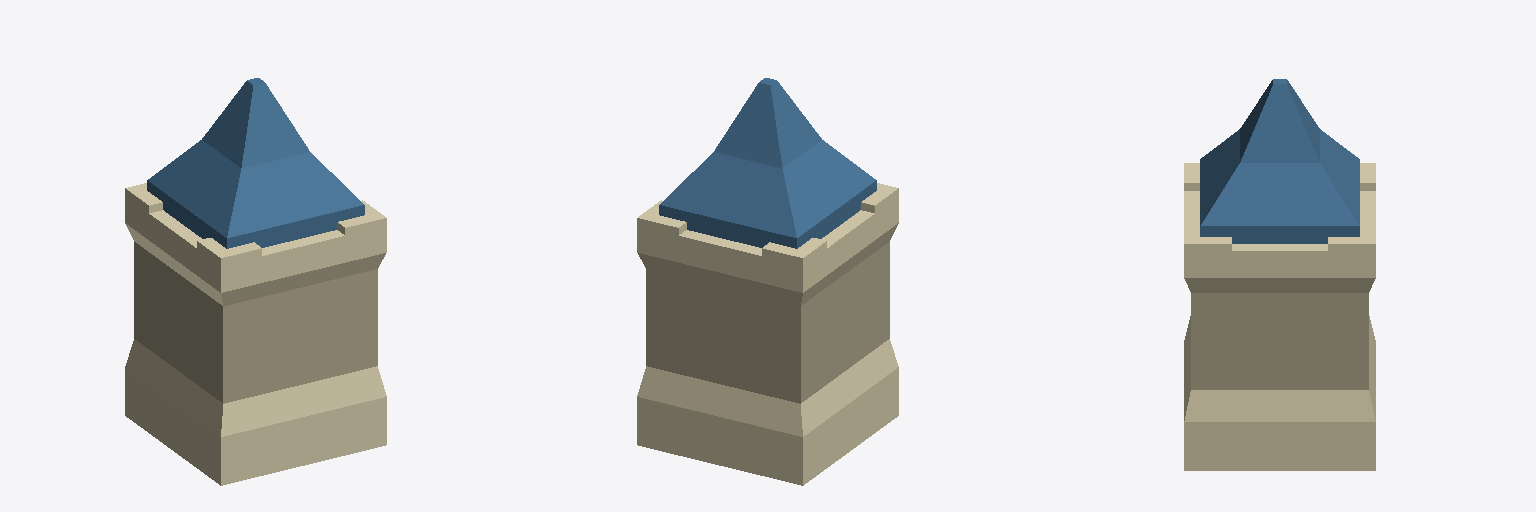
File: towerSquareRoof.obj
The picture shows the model from 3 angles: view 1: azimuth 30°, elevation 25°; view 2: azimuth 150°, elevation 25°; view 3: azimuth 270°, elevation 25°; orthographic projection.
Parts seen in each view (by area): view 1: towerSquareRoof; view 2: towerSquareRoof; view 3: towerSquareRoof.
Boxes of the visible parts, x1,y1,x2,y2 form: towerSquareRoof: [125, 78, 386, 485]; towerSquareRoof: [637, 78, 898, 485]; towerSquareRoof: [1184, 79, 1375, 470].
Size of the model in its own units: 10 by 20.1 by 10.